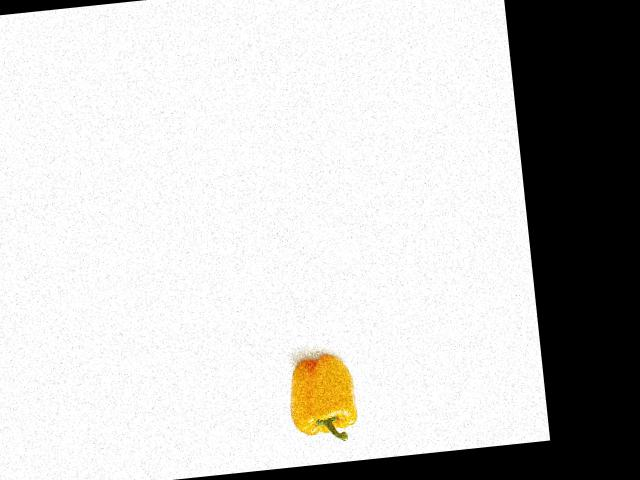bell_pepper: (284, 350, 368, 449)
